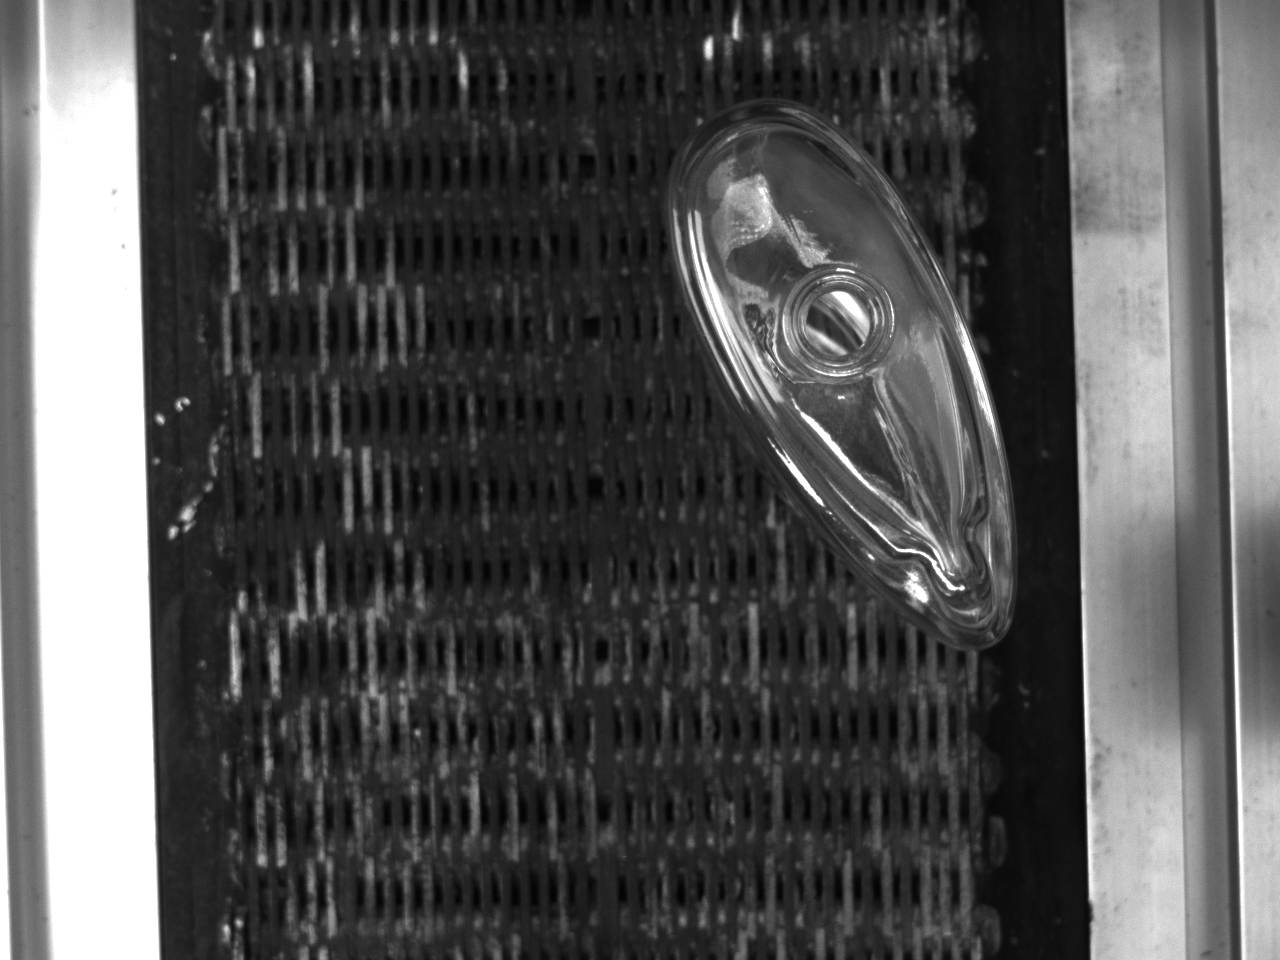bottleneck: (788, 266, 897, 377)
